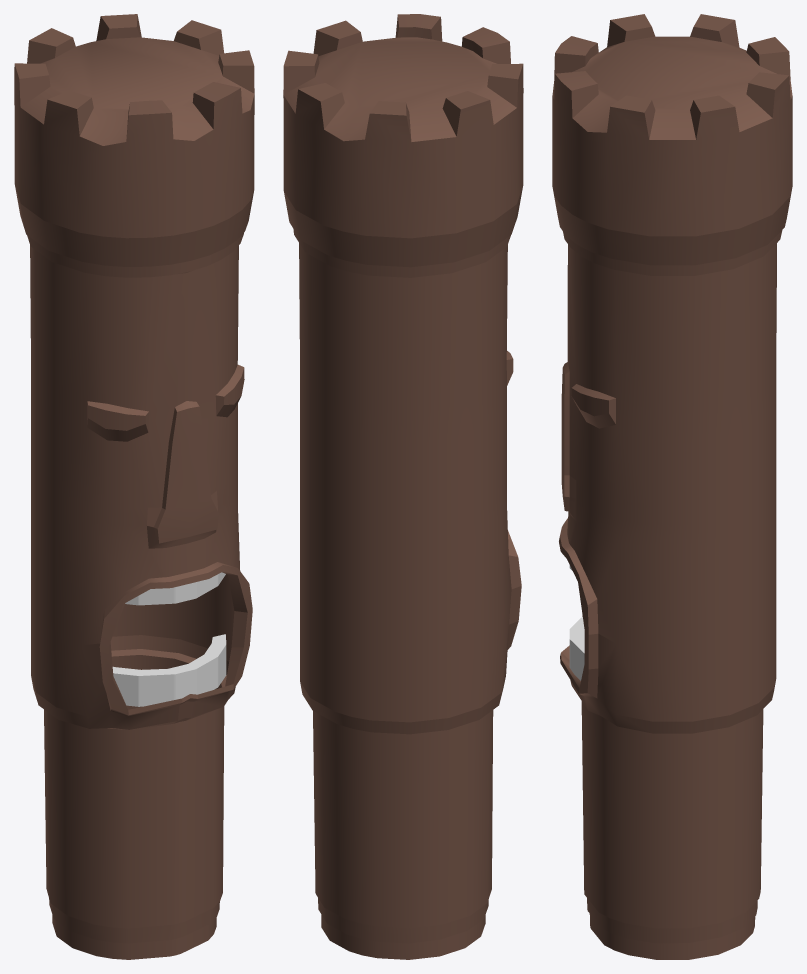
The model's file is tiki statue (1).fbx.
3 renders of one model, left to right at view 1: azimuth 30°, elevation 25°; view 2: azimuth 150°, elevation 25°; view 3: azimuth 270°, elevation 25°, orthographic.
Parts seen in each view (by area): view 1: tiki statue; view 2: tiki statue; view 3: tiki statue.
Part boxes in pixels (x1,y1,x2,y2): tiki statue: (14, 14, 254, 959); tiki statue: (283, 14, 523, 959); tiki statue: (552, 14, 792, 959).
Bounding box in the file's own units: 68.94 × 278 × 70.05.
